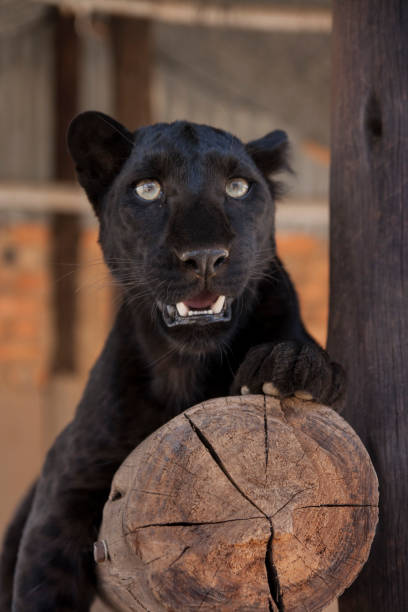panther: (36, 78, 327, 365)
